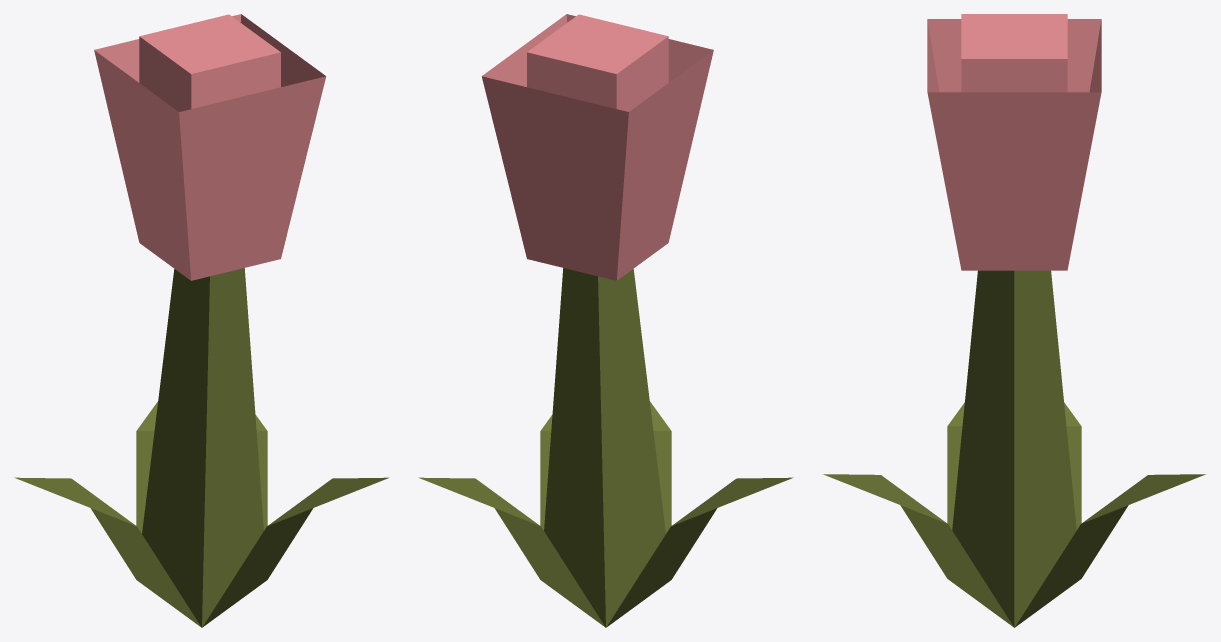
File: fleur-rouge.glb
3 views of the same model, side by side, from view 1: azimuth 30°, elevation 25°; view 2: azimuth 150°, elevation 25°; view 3: azimuth 270°, elevation 25° (orthographic). The views are drawn at different scales.
Parts seen in each view (by area): view 1: flower_redA; view 2: flower_redA; view 3: flower_redA.
Part boxes in pixels (left/top/right/bottom): flower_redA: left=14, top=14, right=389, bottom=627; flower_redA: left=418, top=14, right=793, bottom=627; flower_redA: left=822, top=14, right=1206, bottom=627.
Size of the model in its own units: 0.272 by 0.5 by 0.3095.
